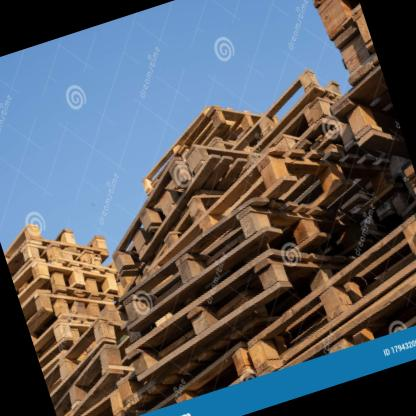BoxFace: (123, 254, 351, 381), (117, 203, 341, 329)
